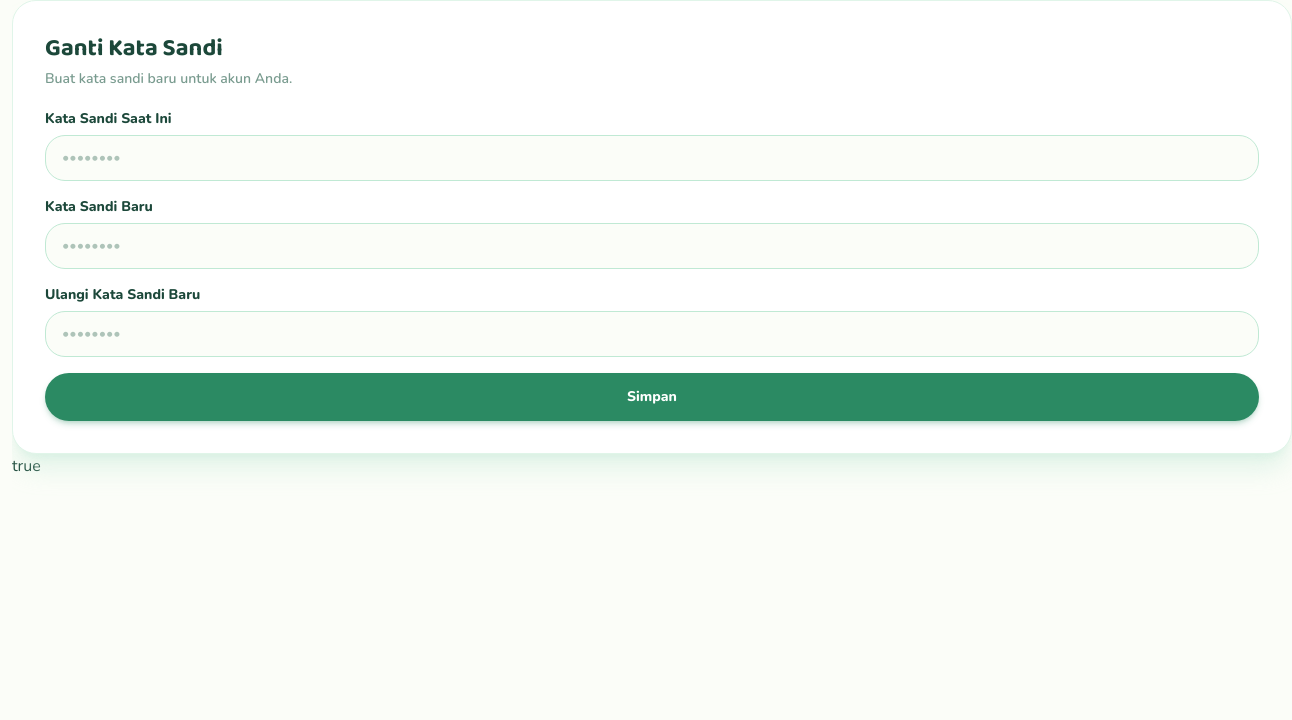
it: ChangePassword › shows the backend 401 copy verbatim and does not navigate
Type "wrong" into the password field labelled "Kata Sandi Saat Ini" at [652, 158], box [45, 135, 1259, 181]
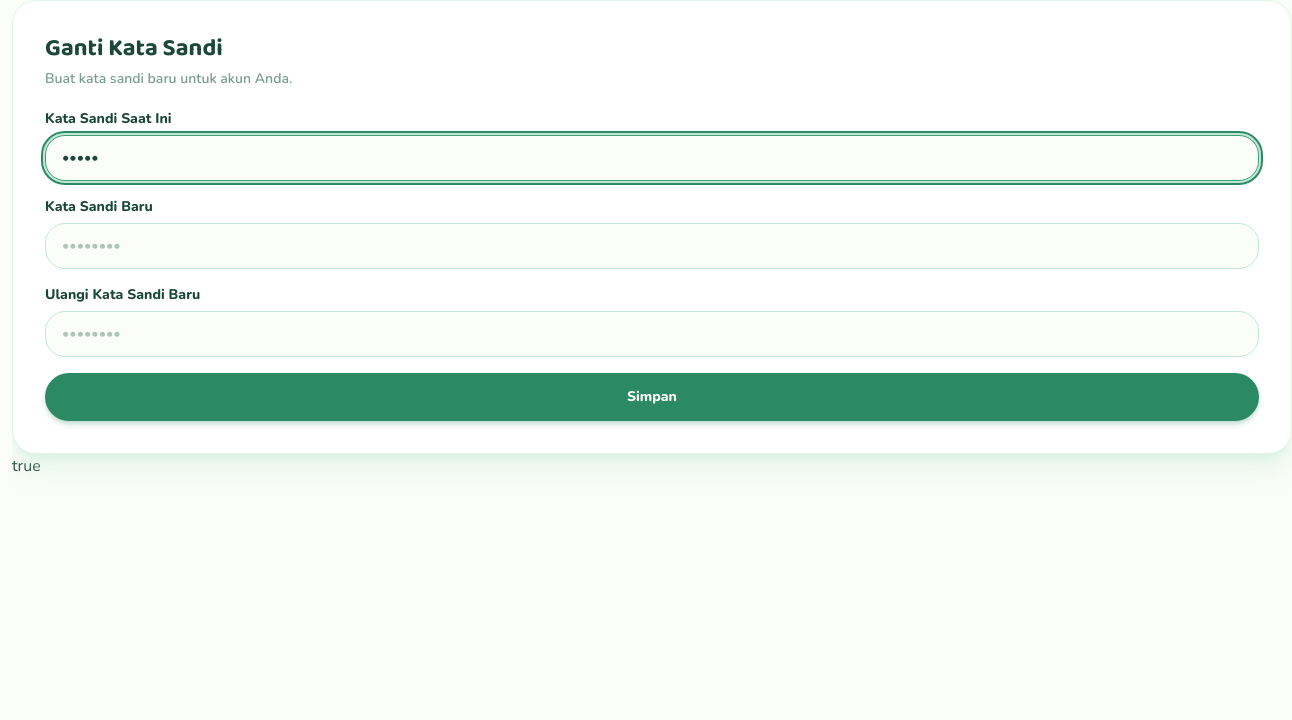
Type "rahasia123" into the password field labelled "Kata Sandi Baru" at [652, 246], box [45, 223, 1259, 269]
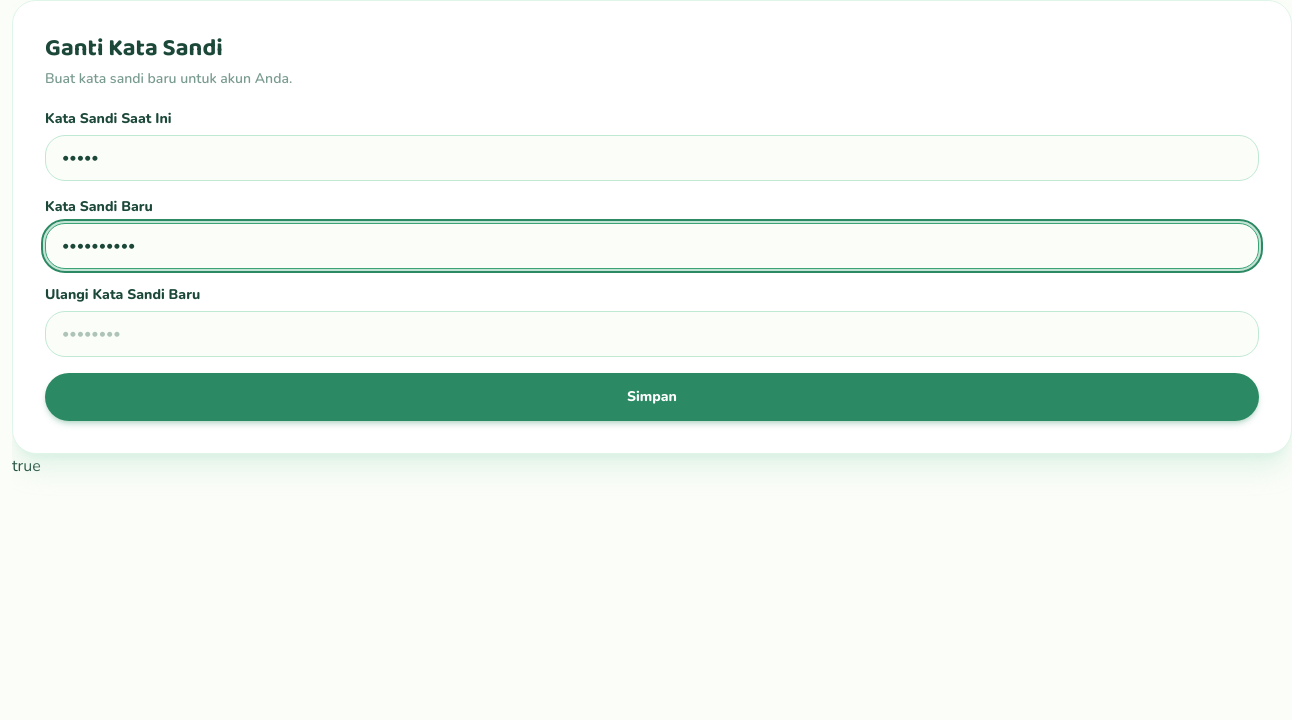
Type "rahasia123" into the password field labelled "Ulangi Kata Sandi Baru" at [652, 334], box [45, 311, 1259, 357]
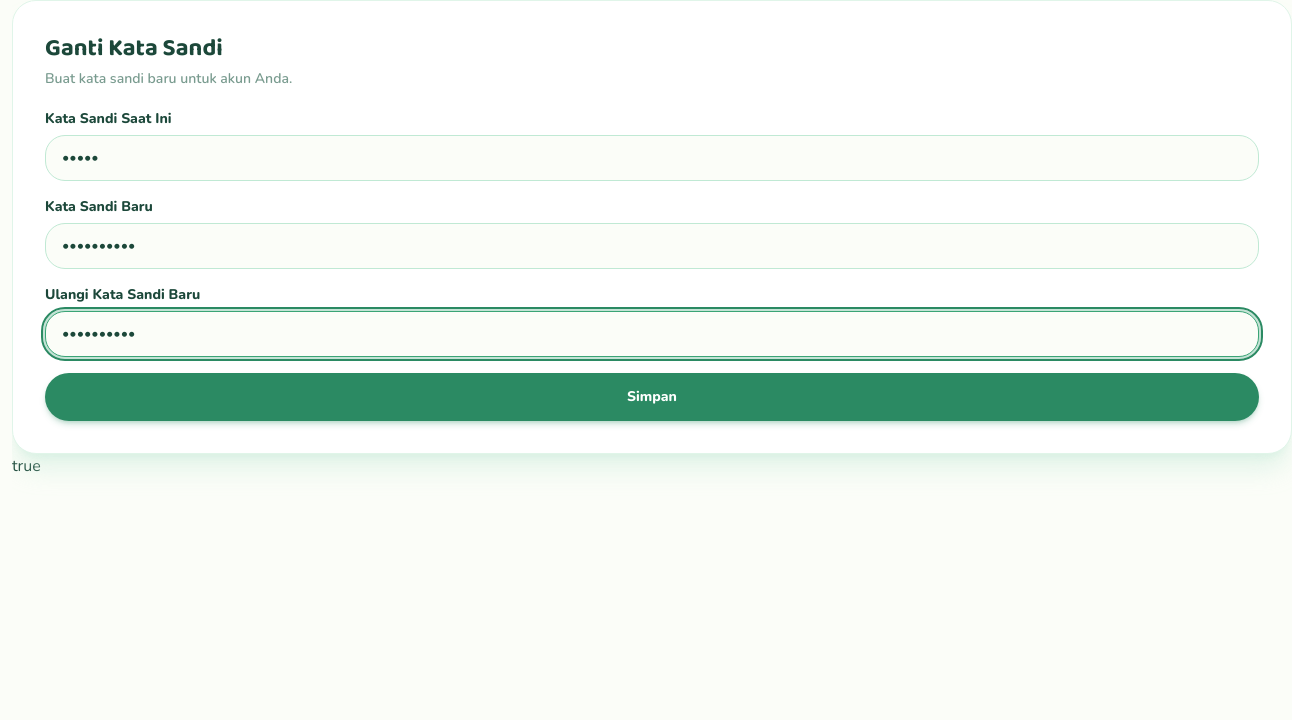
Click the button "Simpan" at [652, 397], box [45, 373, 1259, 421]
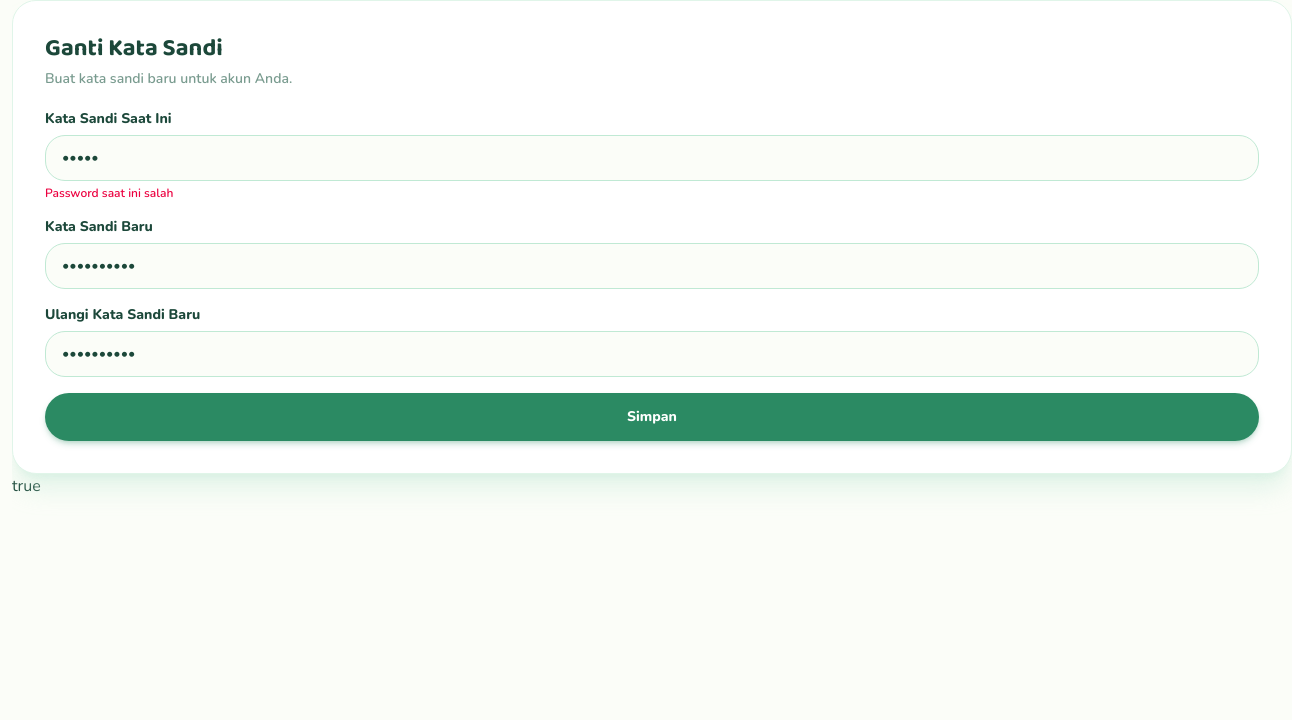
Expected: the text with test id "must-change" reads "true", [12, 475, 41, 497]
Now the text "Password saat ini salah" is shown, box [45, 185, 173, 201]
